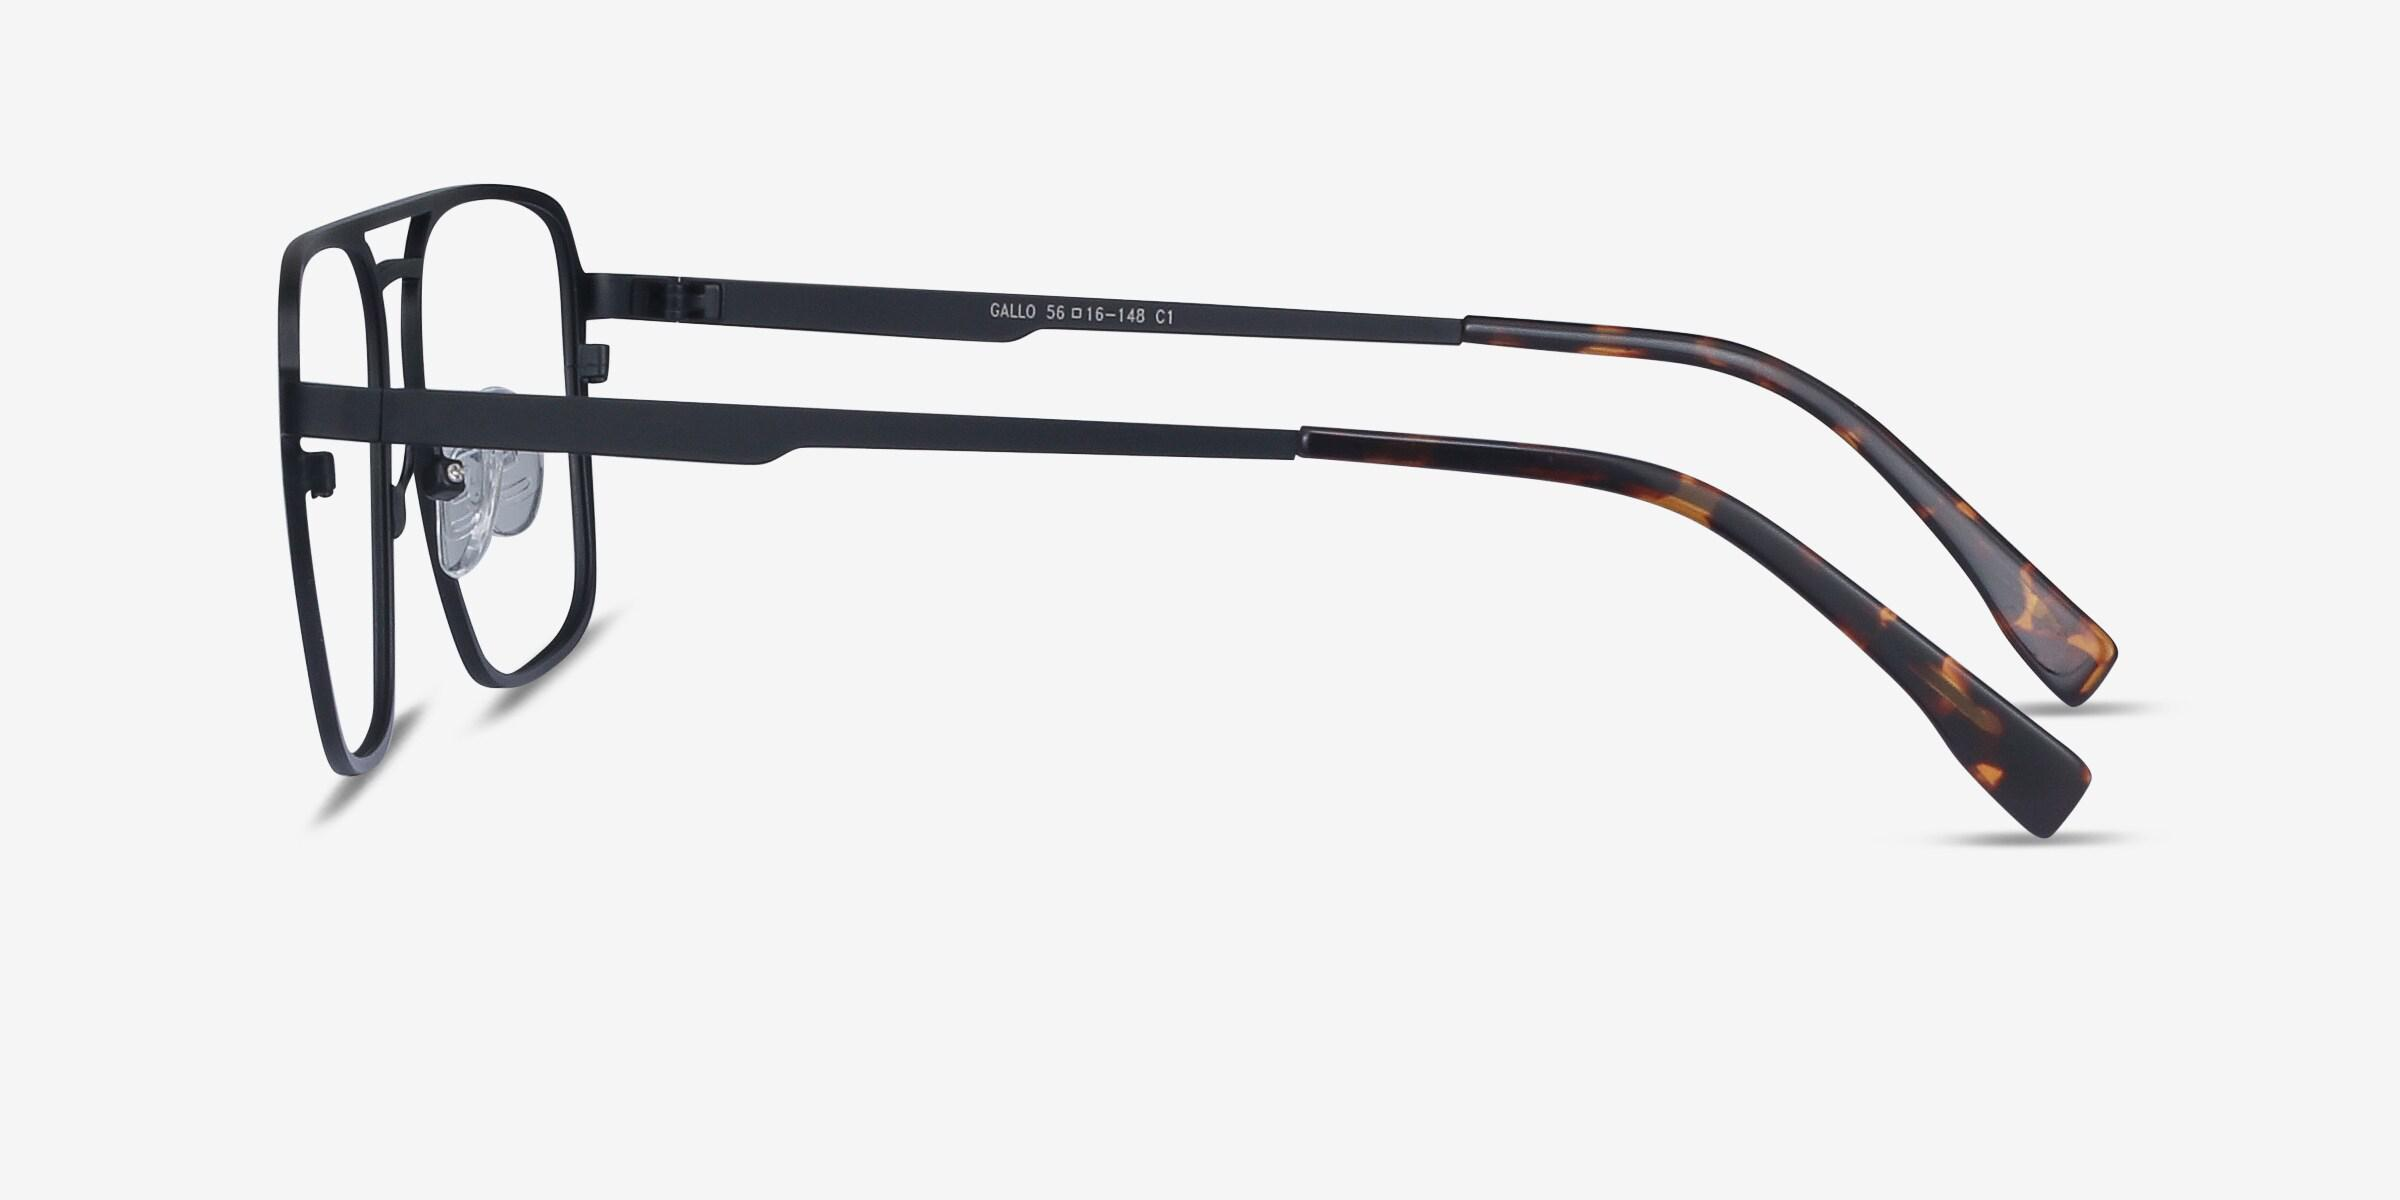Eye-glass: (266, 173, 2120, 834)
